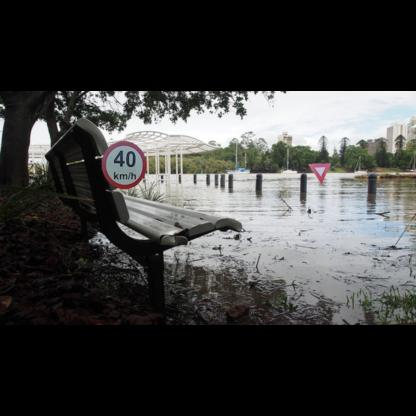R-19: (101, 140, 147, 189)
